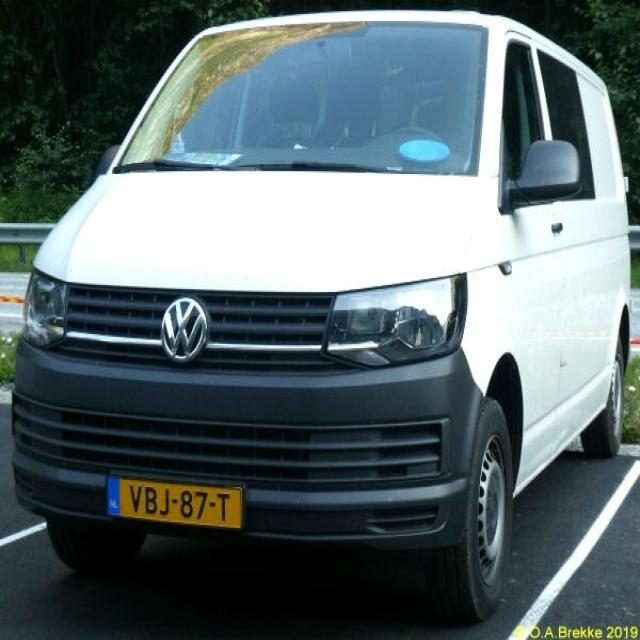number_plate: (102, 473, 244, 529)
